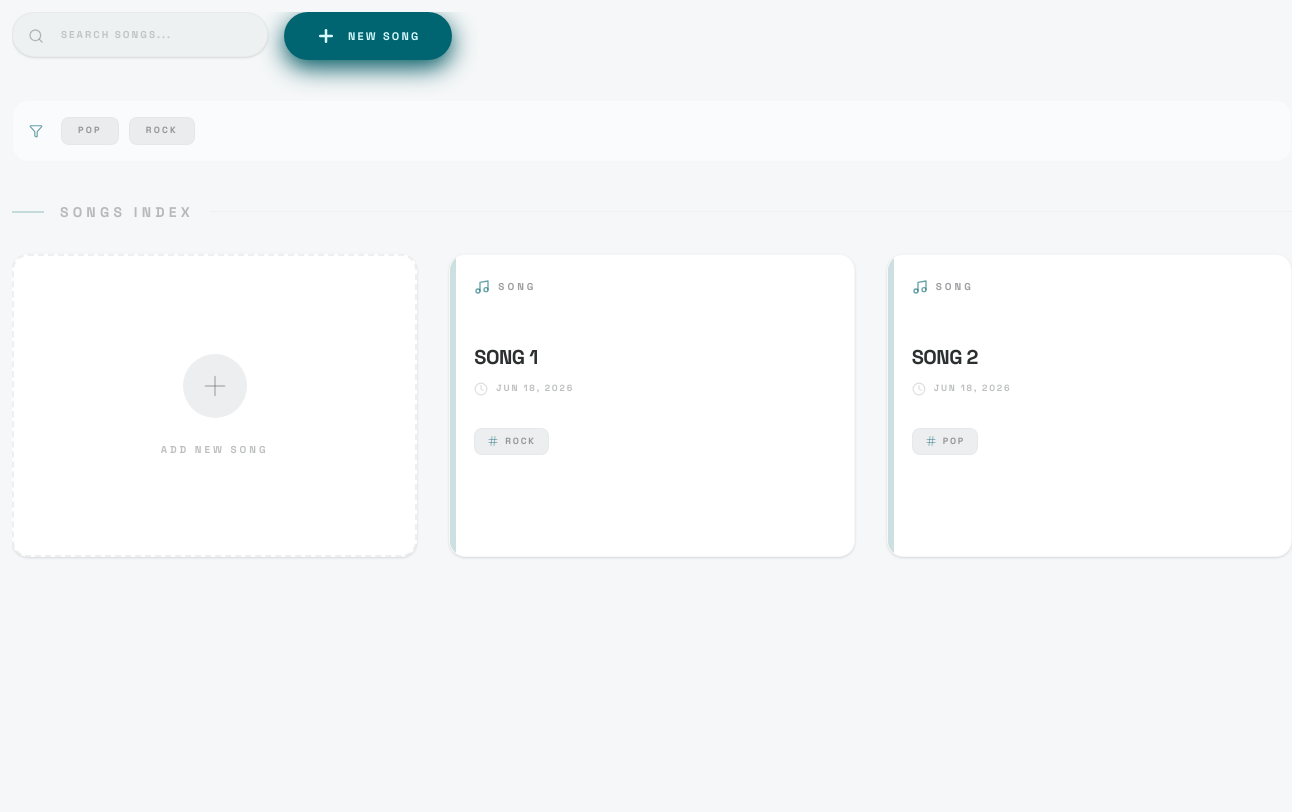
Test: LibraryPageClient › filters items by search query
The width and height of the screenshot is (1292, 812).
Type "Song 1" into the field with test id "search-library-input".
click(140, 34); type("Song 1")  # box [12,12,268,57]
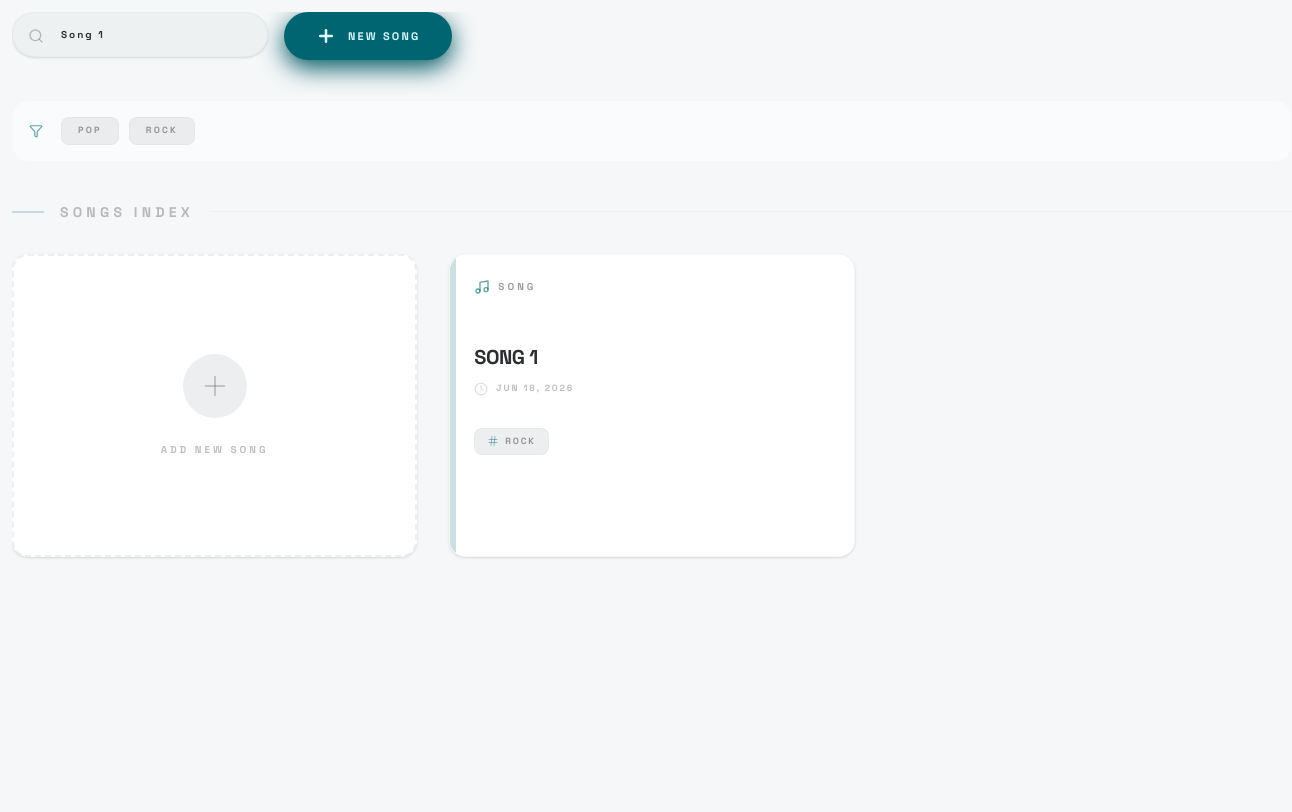
Expected: the heading "Song 1" is shown, [474,344,538,370]
Expected: the heading "Song 2" is gone
